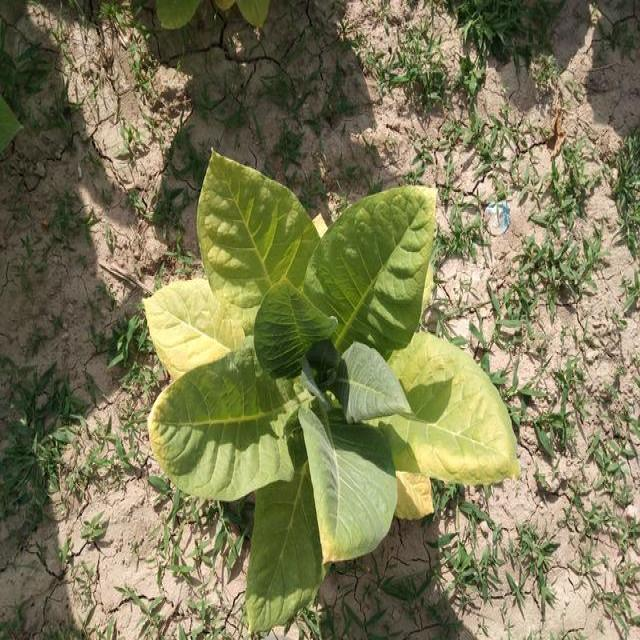crop: (135, 138, 525, 564)
